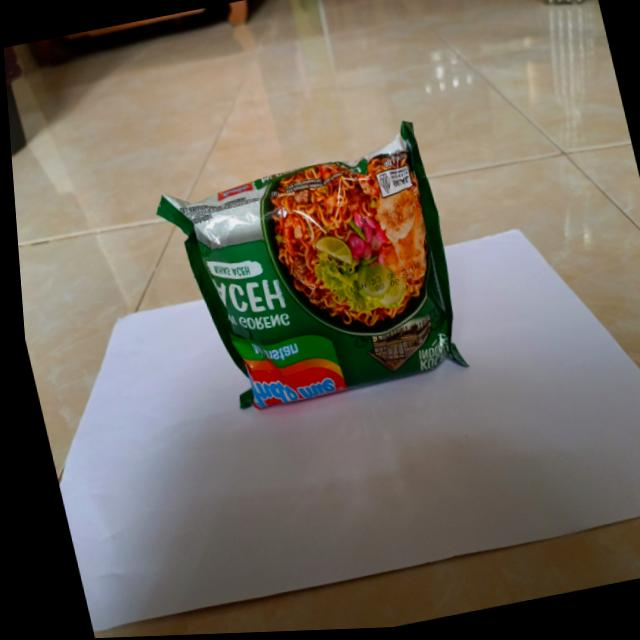gery-salut-coconut: (140, 119, 471, 427)
